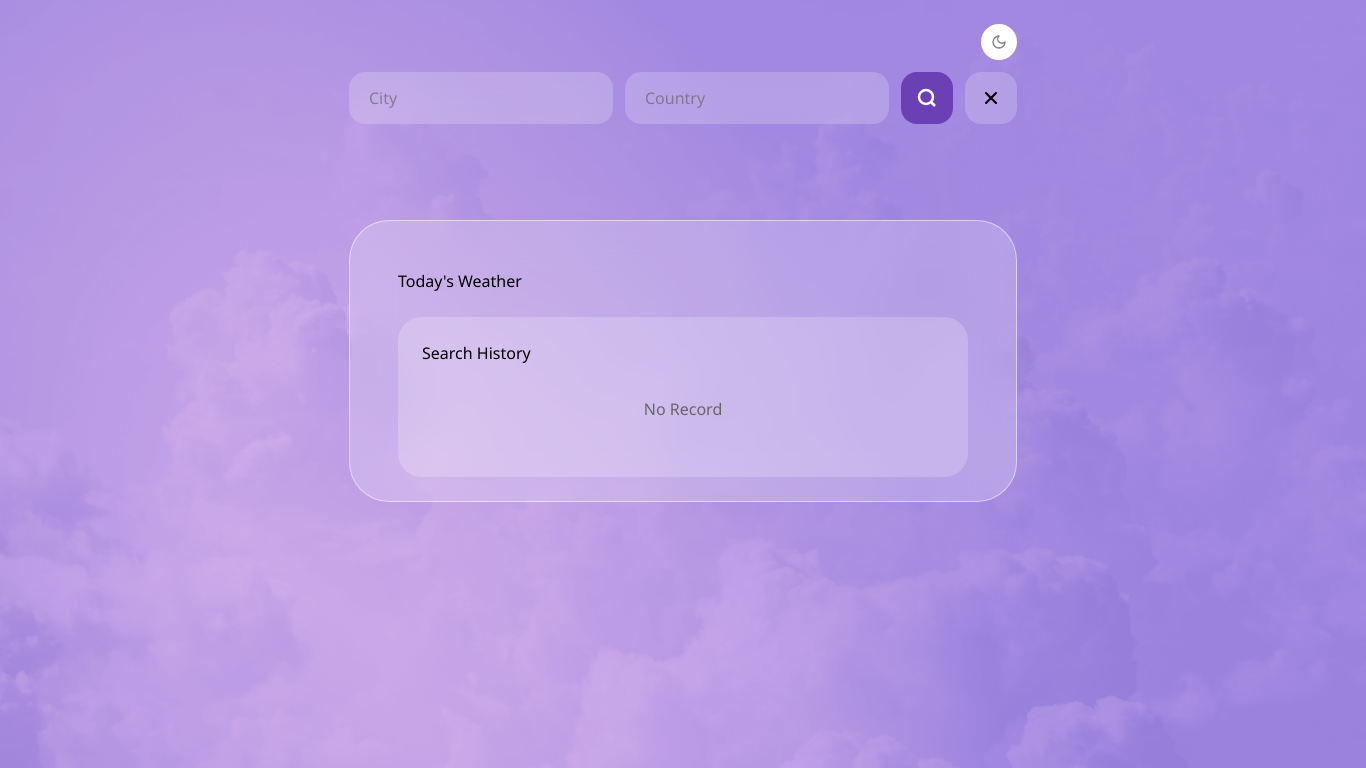
Test: search › geocodes the city, then fetches weather for its coordinates
This screenshot has width=1366, height=768.
In the field labelled "City": (481, 98) [349,72,613,124], type "Tokyo"
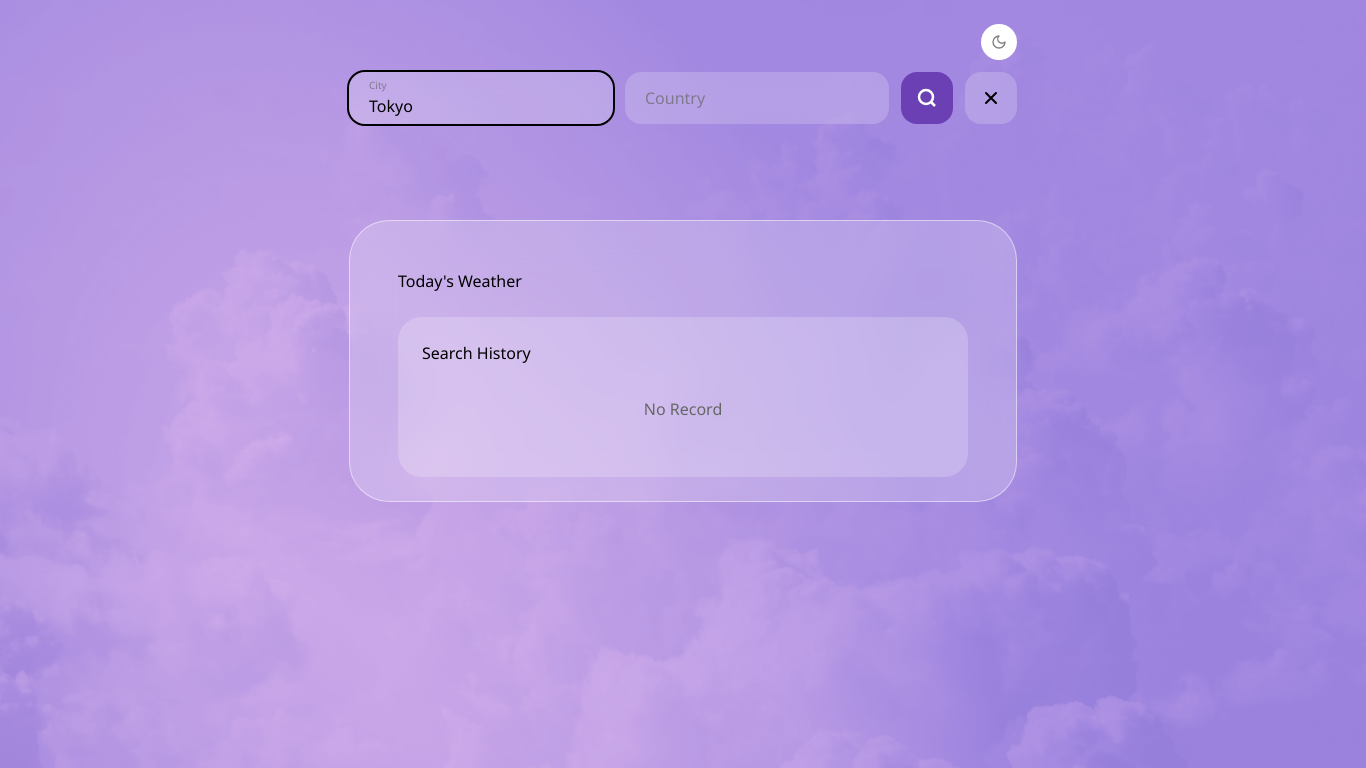
In the field labelled "Country": (757, 98) [625,72,889,124], type "Japan"
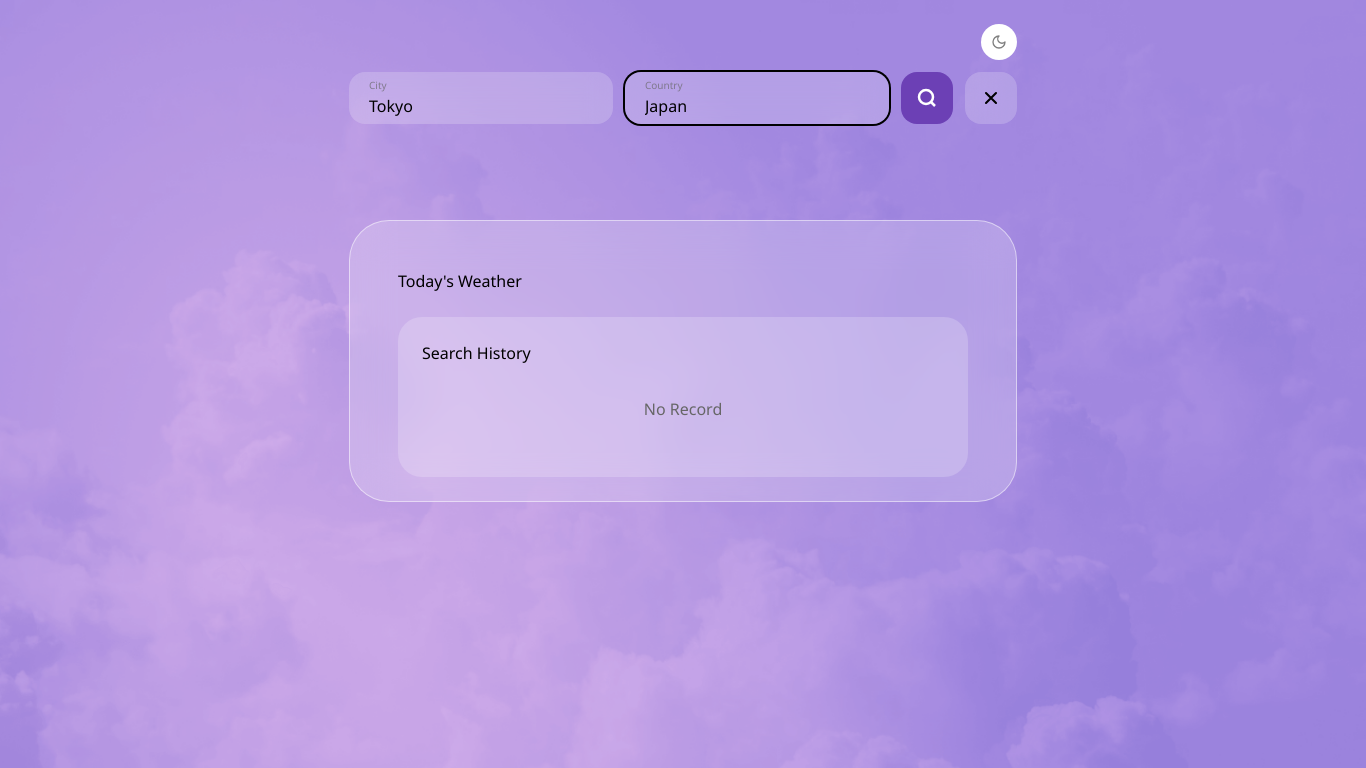
Click the button named "Search": click(927, 98) [901,72,953,124]
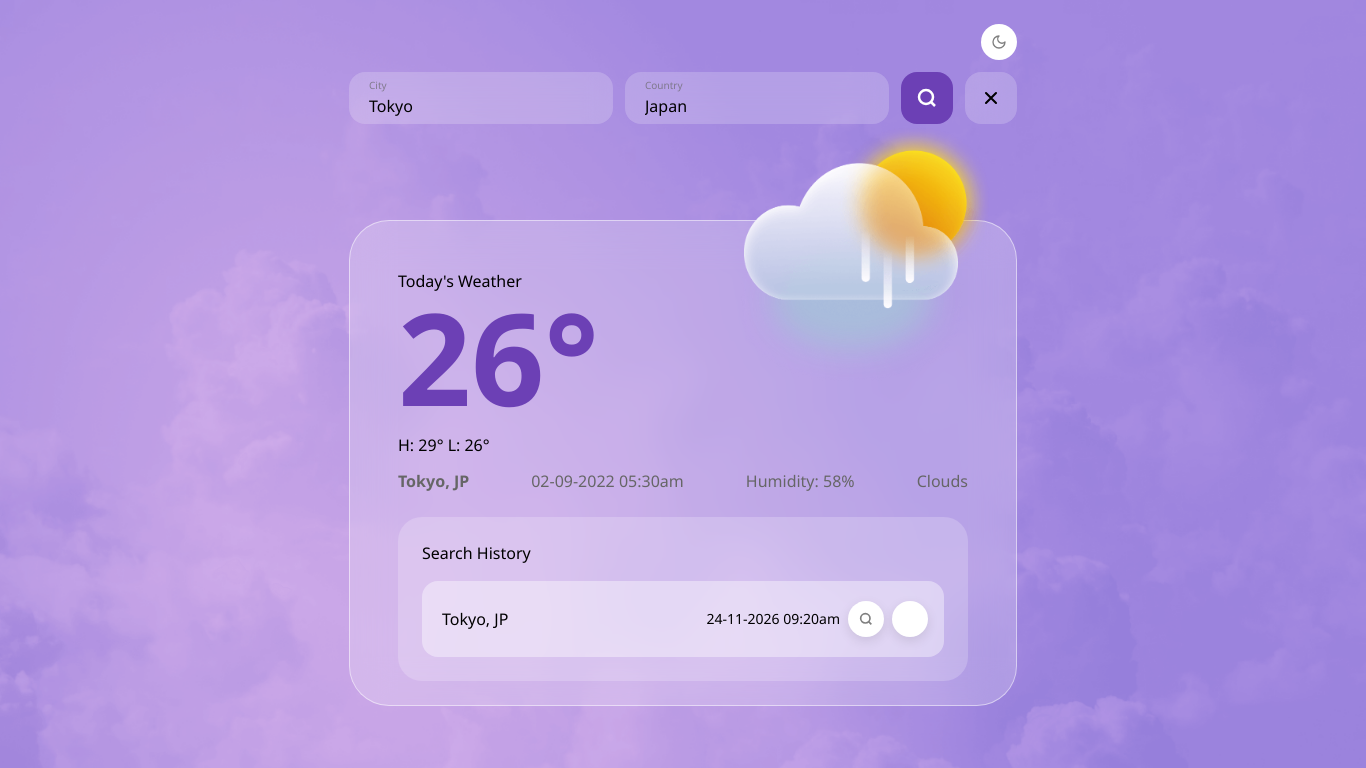
Expected: the text "26°" is shown, [398,269,599,444]
